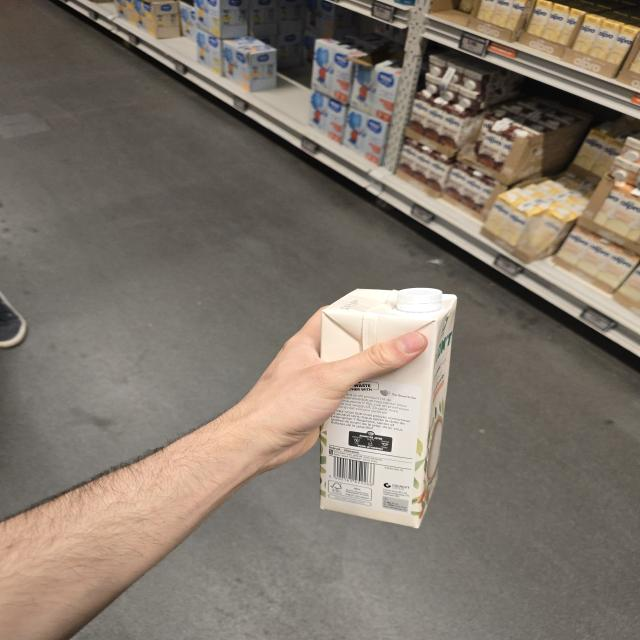Milk: (320, 288, 456, 528)
